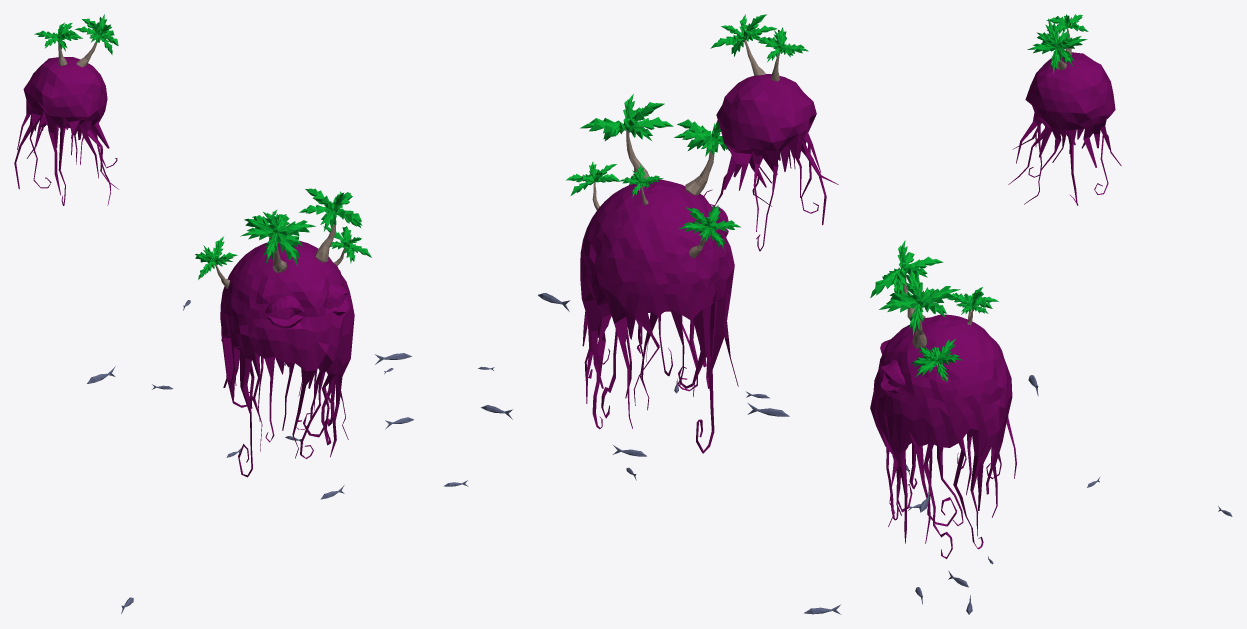
File: eyeless-islands.dae
3 renders of one model, left to right at view 1: azimuth 30°, elevation 25°; view 2: azimuth 150°, elevation 25°; view 3: azimuth 270°, elevation 25°, orthographic. The views are drawn at different scales.
Parts seen in each view (by area): view 1: Icosphere_001, Icosphere_002, Sphere; view 2: Icosphere_001, Icosphere_002; view 3: Icosphere_001, Icosphere_002, Sphere.
Boxes of the visible parts, <box> form: Icosphere_001: <box>220,240,354,477</box>; Icosphere_002: <box>14,57,118,205</box>; Sphere: <box>265,284,348,328</box>; Icosphere_001: <box>580,179,738,453</box>; Icosphere_002: <box>702,74,838,251</box>; Icosphere_001: <box>870,314,1016,558</box>; Icosphere_002: <box>1008,52,1121,205</box>; Sphere: <box>880,339,905,393</box>.
Bounding box in the file's own units: 6.36 × 5.55 × 9.61.
